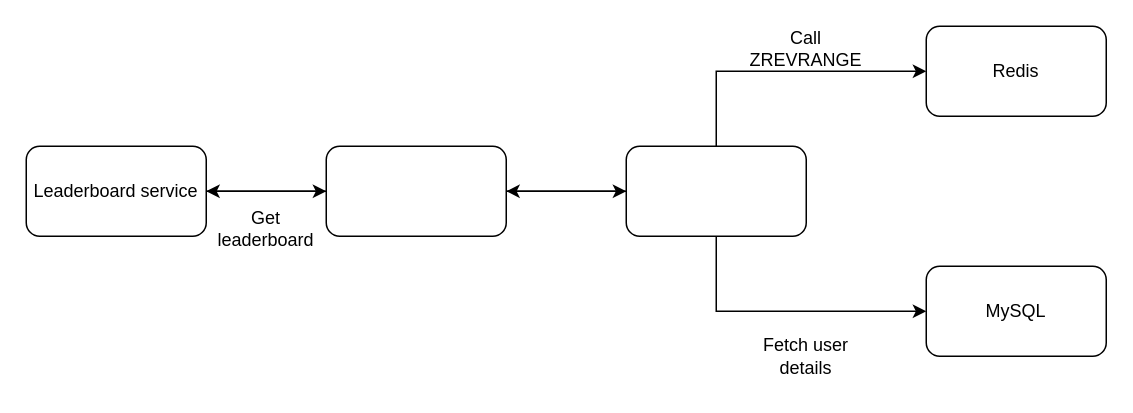
This 1133x413 diagram has some shape labels left out. The box of each missing label's shape, as (x1, y1, x2, y2) in pixels:
AWS API gateway: (325, 145, 506, 236)
AWS Lambda: (625, 145, 806, 236)
